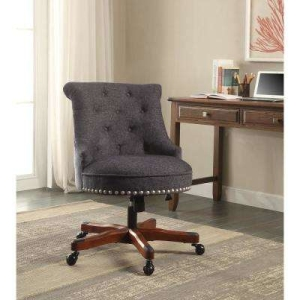chair: (62, 81, 205, 275)
